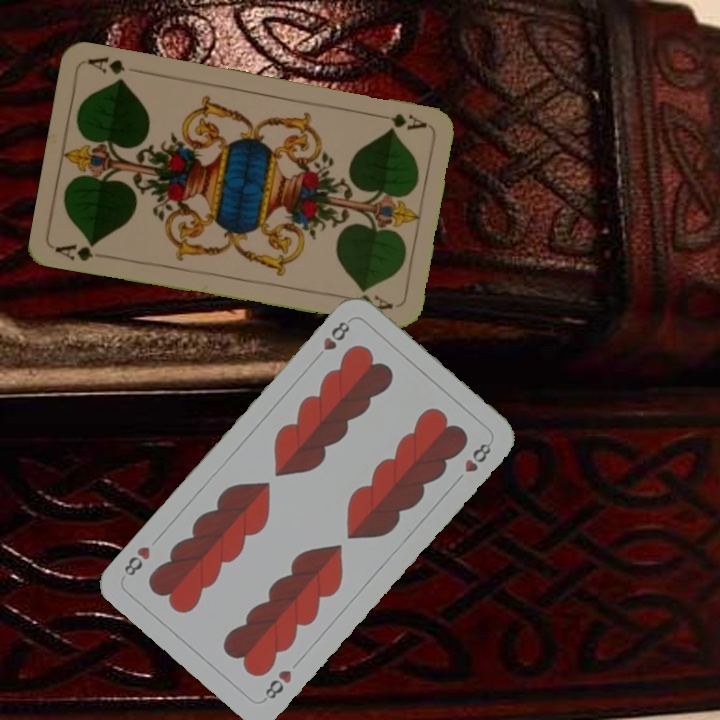GA: (370, 109, 429, 133), (52, 238, 99, 264)
H8: (310, 317, 353, 364), (259, 666, 295, 704)
